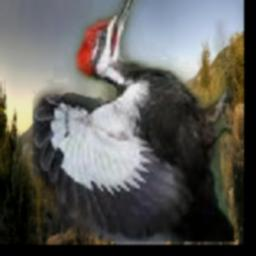Woodpecker: (34, 0, 235, 242)
